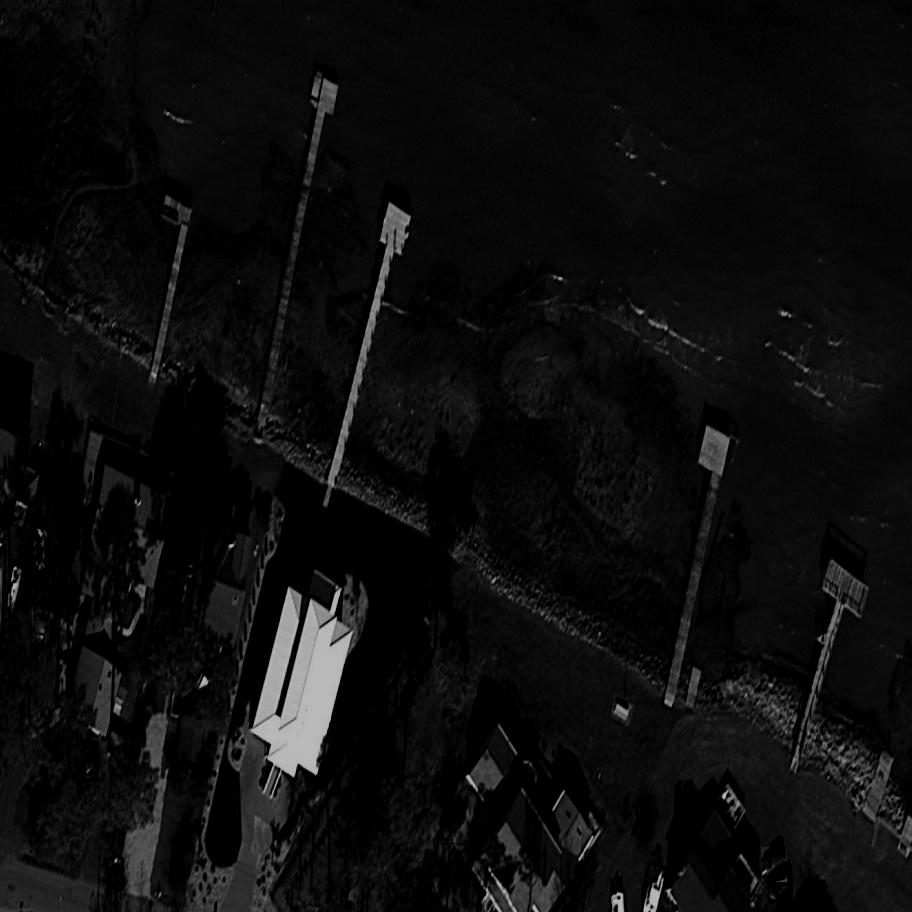ship: (32, 527, 49, 575)
small-vehicle: (436, 805, 475, 844), (754, 847, 795, 882), (765, 873, 797, 902), (81, 741, 100, 781), (33, 601, 49, 645)
